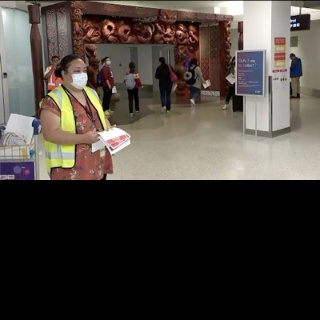with_mask: (66, 64, 89, 90), (106, 58, 111, 64)
